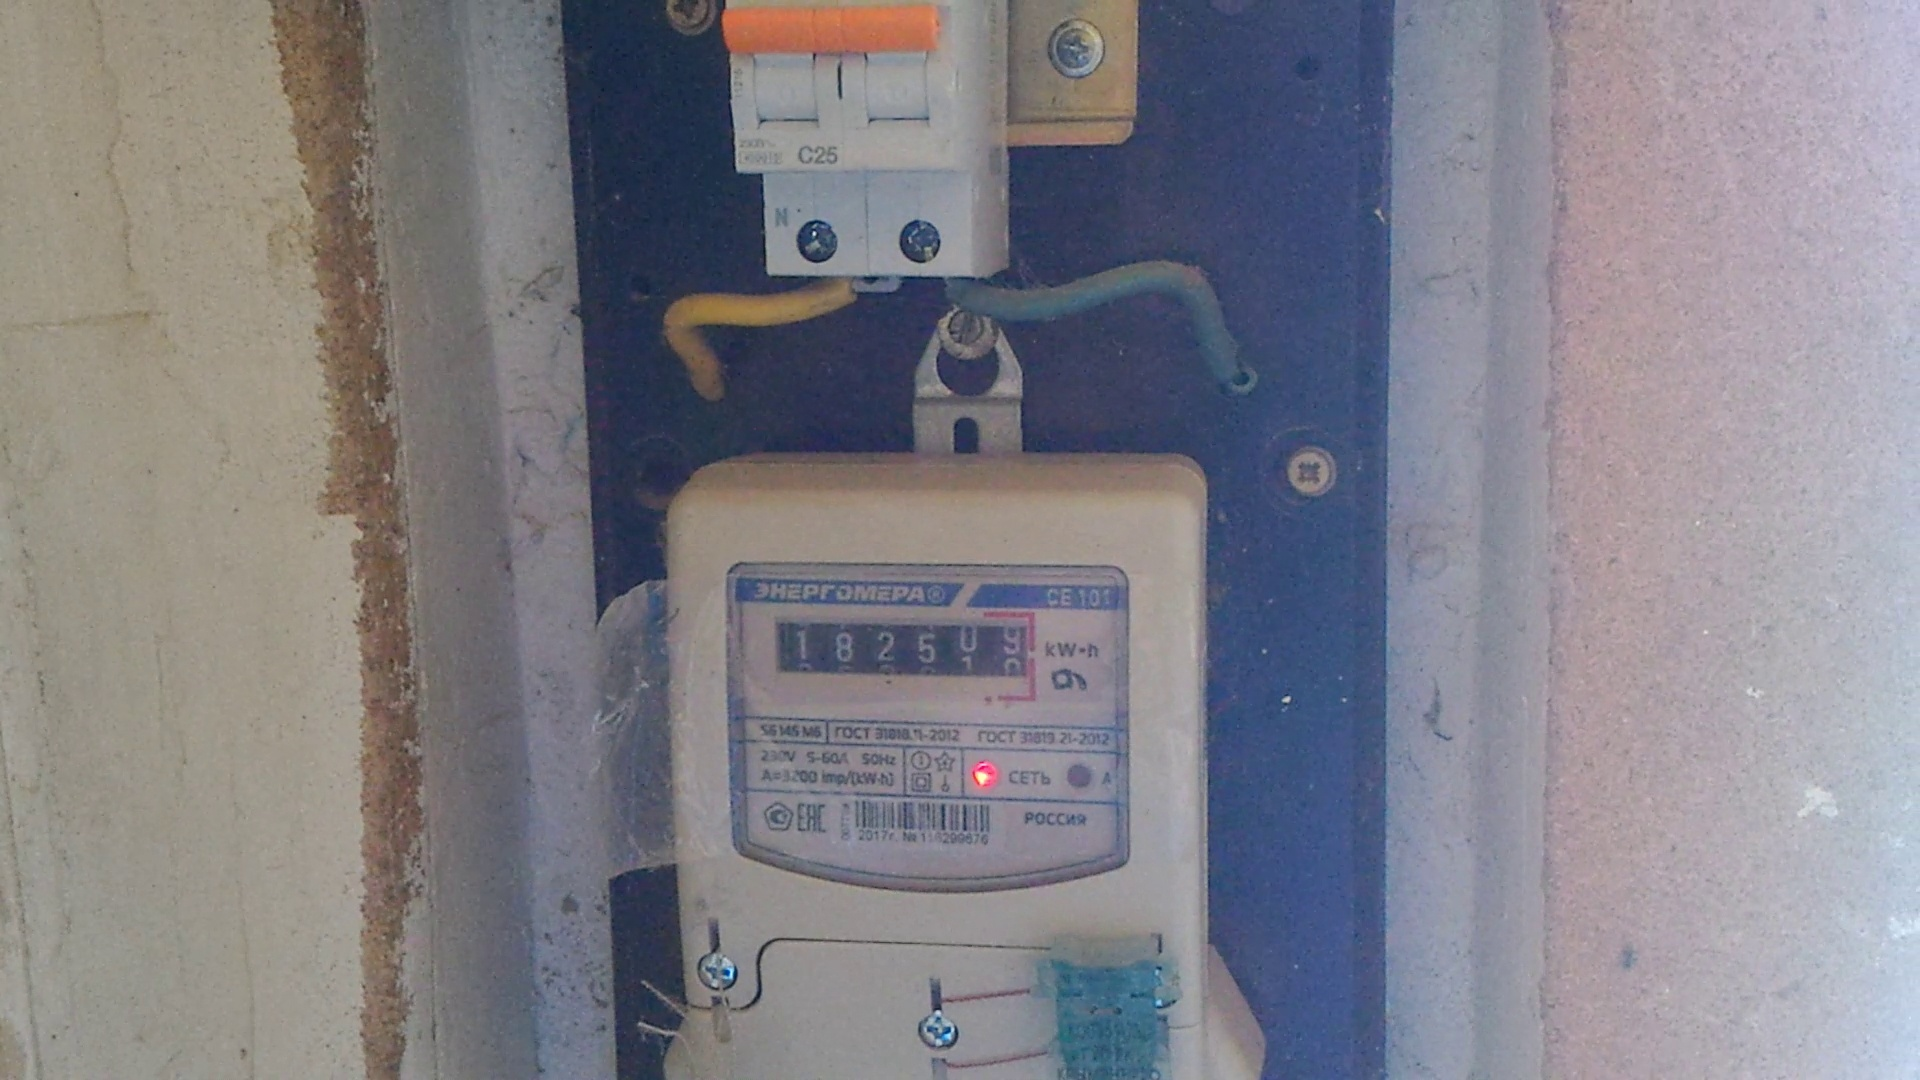counter: (674, 493, 1211, 1077)
counter_screen: (775, 618, 1031, 680)
